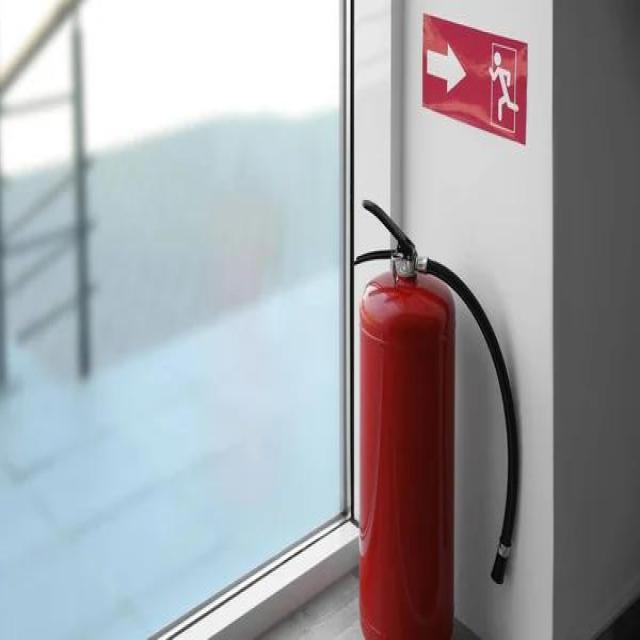fire_extinguisher: (348, 192, 522, 638)
